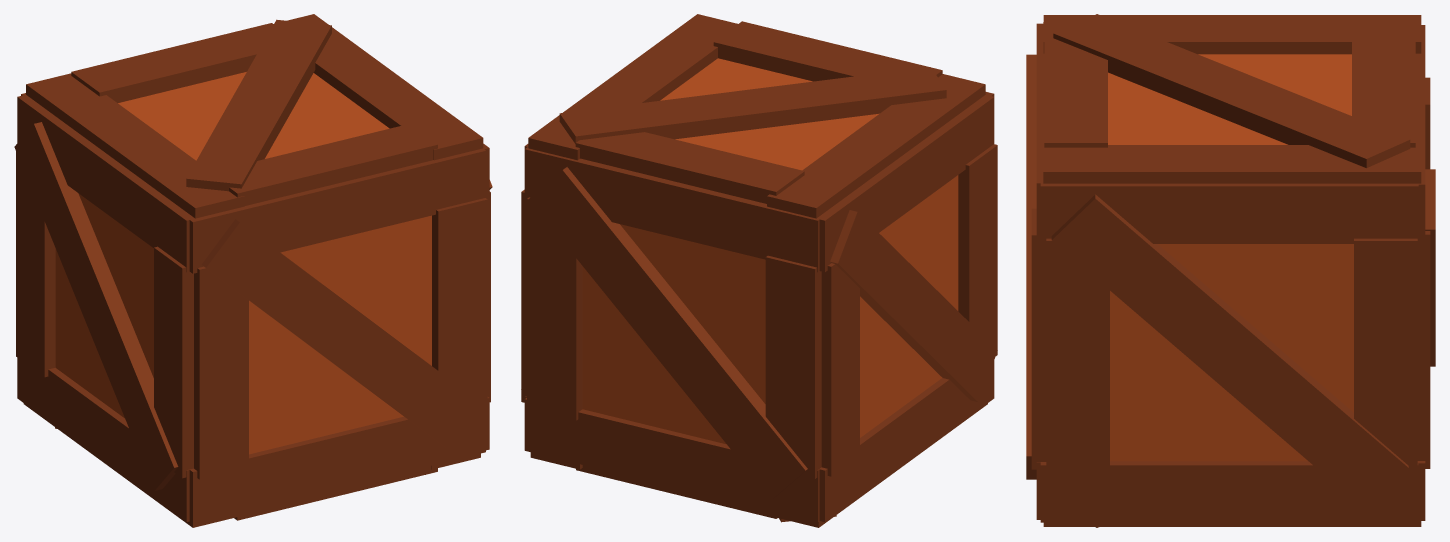
3 renders of one model, left to right at view 1: azimuth 30°, elevation 25°; view 2: azimuth 150°, elevation 25°; view 3: azimuth 270°, elevation 25°, orthographic. The views are drawn at different scales.
Visible parts, largest first — view 1: prop_box_wood; view 2: prop_box_wood; view 3: prop_box_wood.
Part boxes in pixels (x1=…): prop_box_wood: x1=14, y1=14, x2=492, y2=527; prop_box_wood: x1=521, y1=14, x2=997, y2=527; prop_box_wood: x1=1026, y1=14, x2=1435, y2=527.
Bounding box in the file's own units: 68.41 × 69.09 × 68.41.
